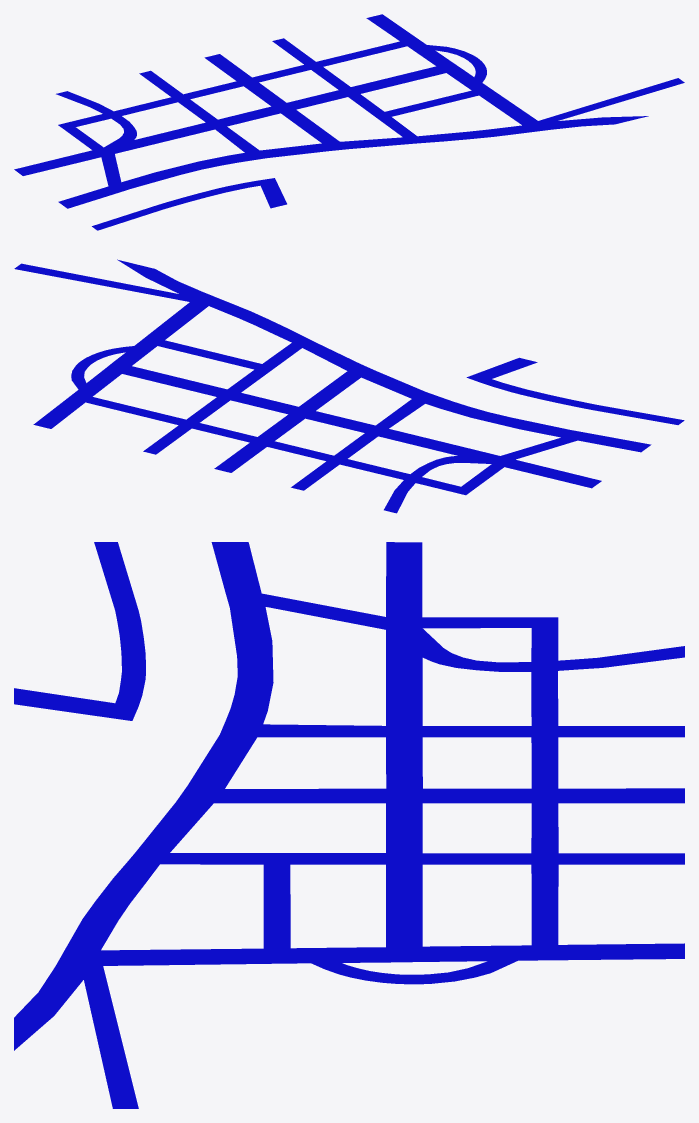
File: Roads.FBX
3 views of the same model, one above another, from view 1: azimuth 30°, elevation 25°; view 2: azimuth 150°, elevation 25°; view 3: azimuth 270°, elevation 25° (orthographic). The views are drawn at different scales.
Visible parts, largest first — view 1: cityStreets; view 2: cityStreets; view 3: cityStreets.
Part boxes in pixels (left/top/right/bottom): cityStreets: left=14, top=14, right=684, bottom=230; cityStreets: left=14, top=259, right=684, bottom=513; cityStreets: left=14, top=542, right=684, bottom=1108.
Bounding box in the file's own units: 568272 × 1.19 × 284356.
